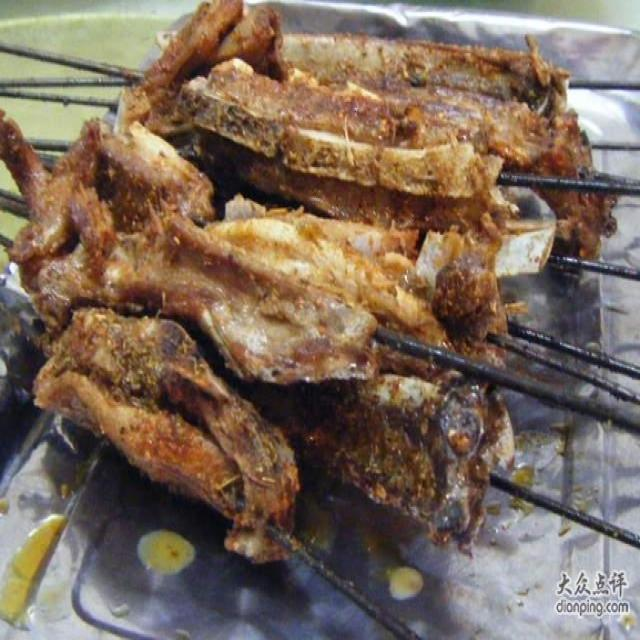烧串烤肉: (13, 42, 618, 610)
